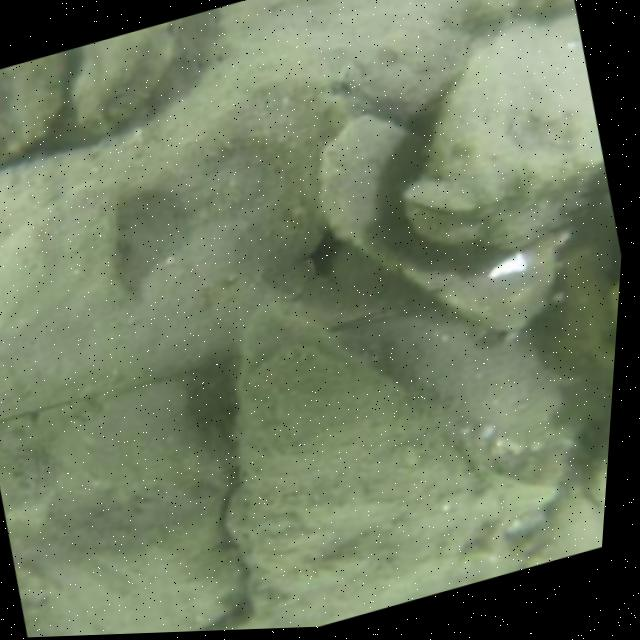Oyster-Closed: (235, 317, 497, 620)
Oyster-Indeterminate: (318, 113, 556, 331), (38, 384, 243, 636), (124, 85, 341, 285), (411, 19, 600, 244), (187, 0, 470, 114), (75, 25, 171, 134), (0, 70, 65, 166), (538, 496, 605, 554)
